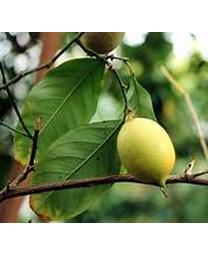lemon: (118, 117, 174, 185)
